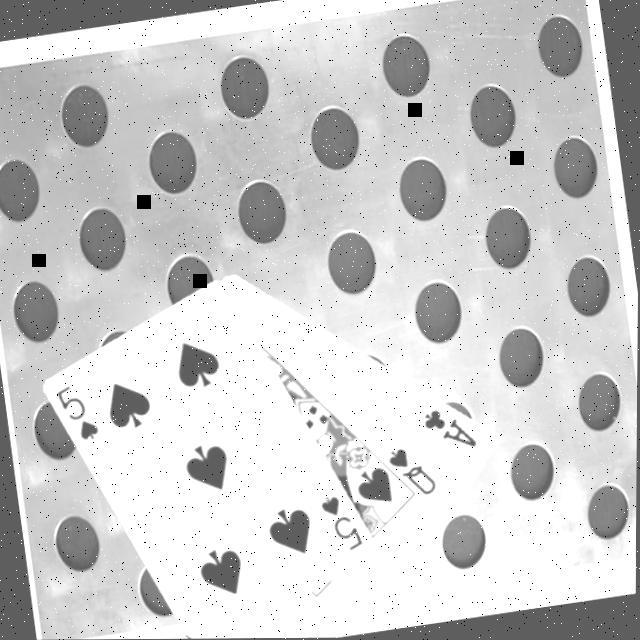5S: (318, 490, 370, 560), (55, 380, 107, 450)
AC: (422, 402, 484, 459)
QS: (387, 443, 444, 506)
